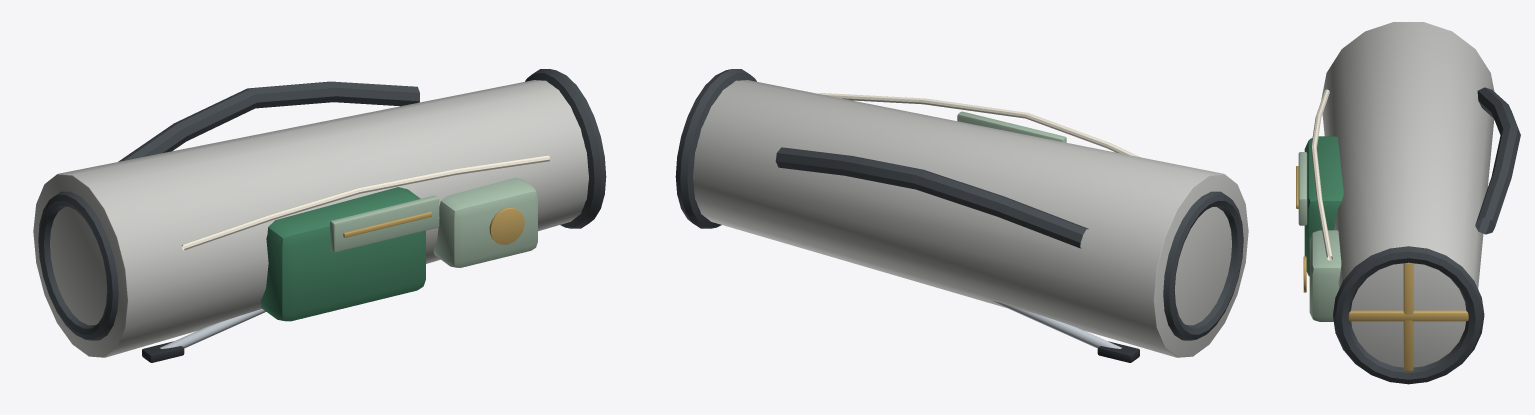
Rendered from checkout_product_stand_bag.glb.
3 views of the same model, side by side, from view 1: azimuth 30°, elevation 25°; view 2: azimuth 150°, elevation 25°; view 3: azimuth 270°, elevation 25° (orthographic). The views are drawn at different scales.
Parts seen in each view (by area): view 1: StandBagBody, StandBagPocket, StandBagBallPocket, StandBagShoulderStrap, StandBagBaseRim, StandBagTopRim, StandBagPocketFlap, StandBagFrontPiping, StandBagCrest, StandLeg_1, StandLegFoot_1; view 2: StandBagBody, StandBagShoulderStrap, StandBagBaseRim, StandBagTopRim, StandBagFrontPiping, StandLeg_2, StandBagPocketFlap, StandLegFoot_2; view 3: StandBagBody, StandBagTopRim, StandBagShoulderStrap, StandBagPocket, StandBagBallPocket, StandBagDividerFrontBack, StandBagDividerLeftRight, StandBagFrontPiping, StandBagPocketFlap.
Part boxes in pixels (<box>): StandBagBody: <box>33,80,588,357</box>; StandBagPocket: <box>260,187,425,321</box>; StandBagBallPocket: <box>433,177,537,267</box>; StandBagShoulderStrap: <box>118,81,419,161</box>; StandBagBaseRim: <box>38,191,118,340</box>; StandBagTopRim: <box>525,69,606,228</box>; StandBagPocketFlap: <box>330,195,439,252</box>; StandBagFrontPiping: <box>181,155,550,250</box>; StandBagCrest: <box>489,207,524,244</box>; StandLeg_1: <box>160,309,265,348</box>; StandLegFoot_1: <box>142,341,184,362</box>; StandBagBody: <box>693,80,1248,357</box>; StandBagShoulderStrap: <box>775,147,1088,248</box>; StandBagBaseRim: <box>1163,191,1243,340</box>; StandBagTopRim: <box>675,69,756,228</box>; StandBagFrontPiping: <box>818,93,1139,156</box>; StandLeg_2: <box>991,300,1121,348</box>; StandBagPocketFlap: <box>957,111,1066,142</box>; StandLegFoot_2: <box>1097,341,1139,362</box>; StandBagBody: <box>1321,22,1494,367</box>; StandBagTopRim: <box>1333,246,1484,384</box>; StandBagShoulderStrap: <box>1475,87,1520,234</box>; StandBagPocket: <box>1304,136,1343,276</box>; StandBagBallPocket: <box>1309,230,1341,321</box>; StandBagDividerFrontBack: <box>1348,310,1468,321</box>; StandBagDividerLeftRight: <box>1403,262,1413,371</box>; StandBagFrontPiping: <box>1311,89,1332,260</box>; StandBagPocketFlap: <box>1298,152,1307,225</box>.
Size of the model in its own units: 0.722 by 0.25 by 0.3085.
